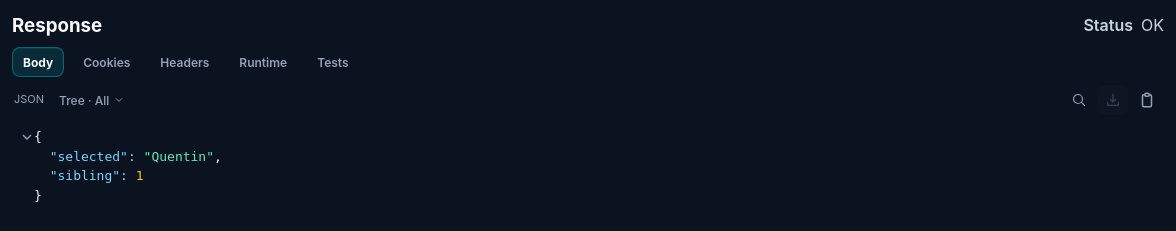
response JSON contextual copy actions › copies primitive Quentin without keys and restores focus
Right-click the text "\"selected\":": (93, 156) [50,149,136,164]
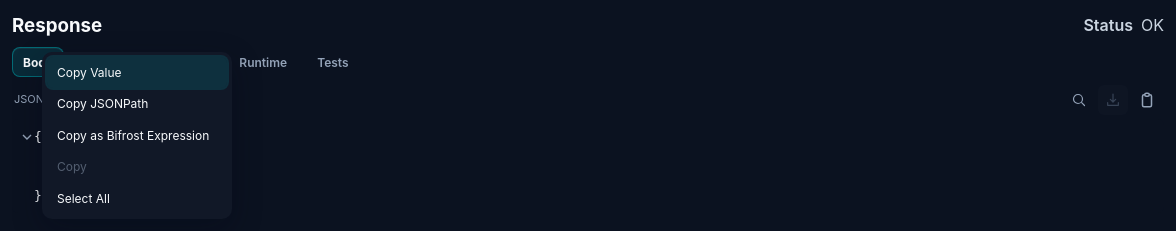
Expected: the text "Copy JSON" is not shown
Result: the menu item "Copy Value" is shown
Click the menu item "Copy Value": click(137, 73) [47,57,227,88]
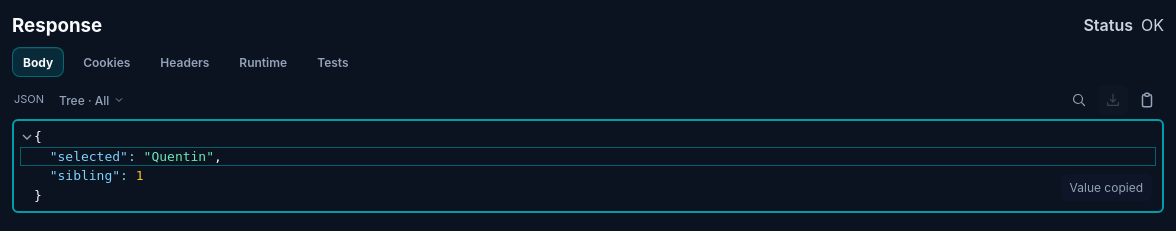
Expected: the button named "Collapse $" is shown, [20,127,34,147]
Result: the menu is gone
Result: the message "Value copied" is shown at [1061,174,1152,201]
